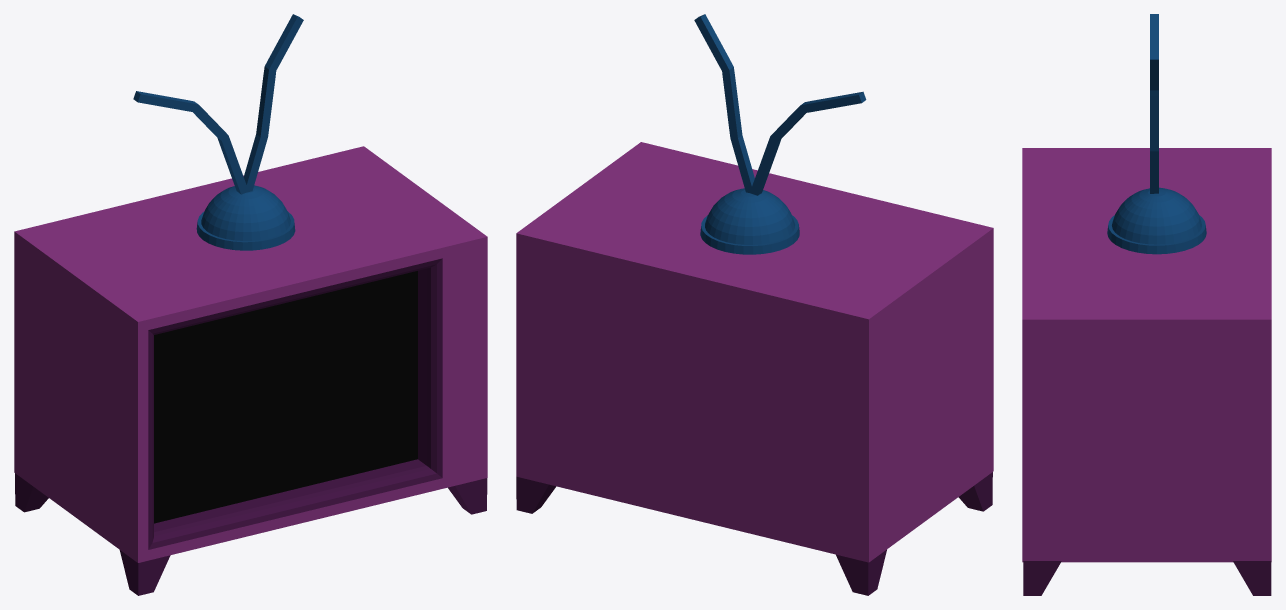
Rendered from tele2.fbx.
3 renders of one model, left to right at view 1: azimuth 30°, elevation 25°; view 2: azimuth 150°, elevation 25°; view 3: azimuth 270°, elevation 25°, orthographic.
Parts seen in each view (by area): view 1: Cube.001; view 2: Cube.001; view 3: Cube.001.
Part boxes in pixels (bbox=[...]): Cube.001: bbox=[14, 14, 487, 595]; Cube.001: bbox=[516, 14, 993, 595]; Cube.001: bbox=[1022, 14, 1271, 595].
Size of the model in its own units: 151 by 198 by 92.77.
